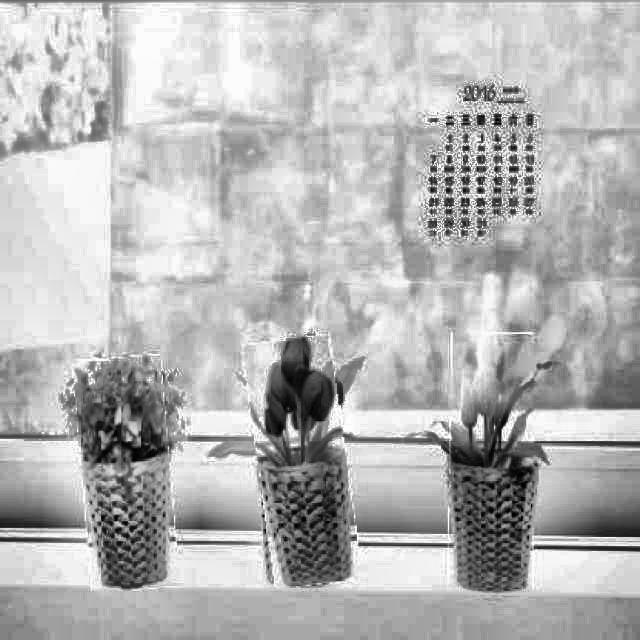plants: (251, 336, 354, 587), (77, 355, 174, 591), (448, 332, 534, 590)
